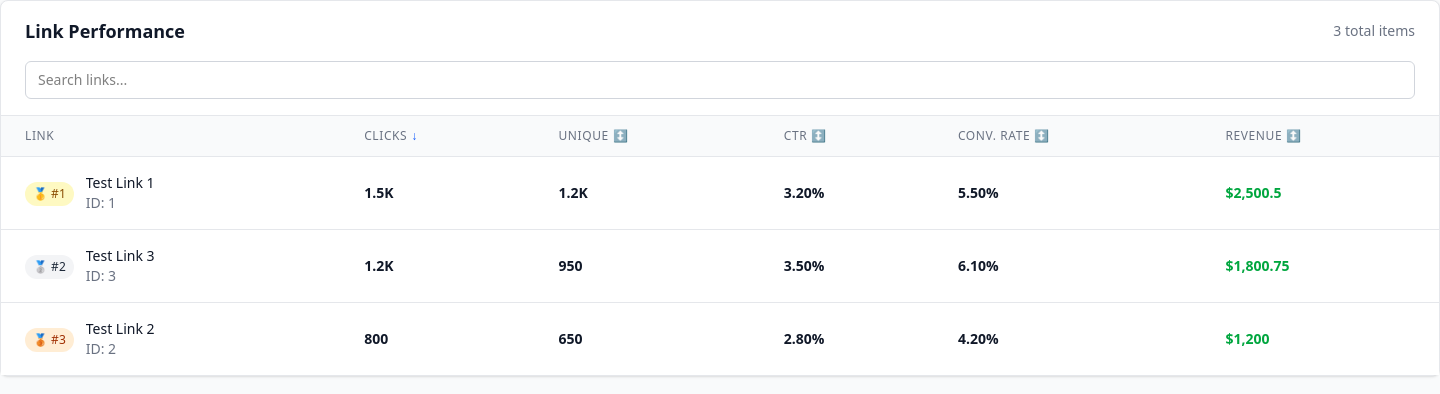
Test case: PerformanceTable › should show "no results" message when filter has no matches
The width and height of the screenshot is (1440, 394).
In the field with placeholder "Search links...": (720, 80) [25, 61, 1415, 99], type "Non-existent Link"
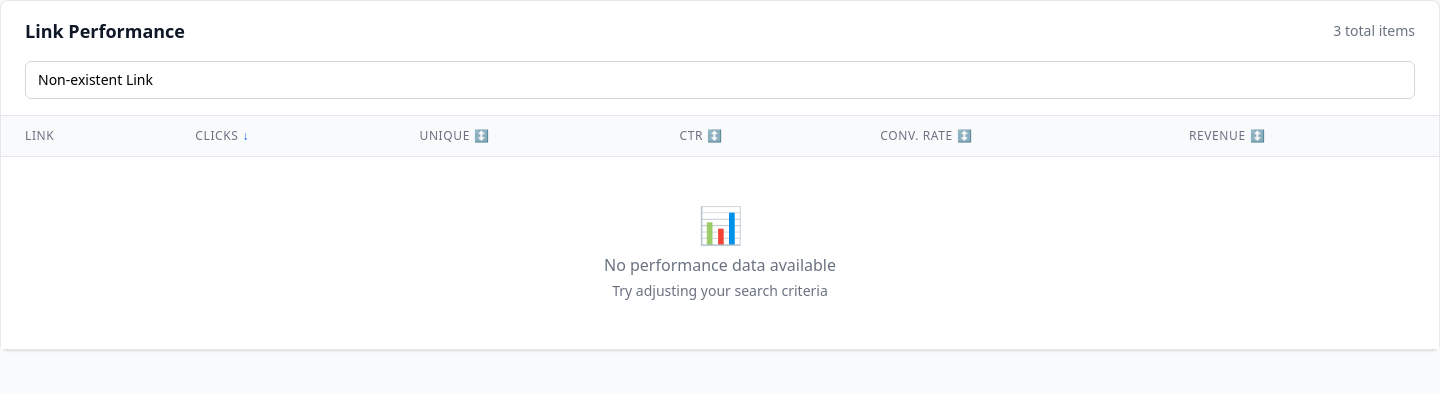
Check: the text "No performance data available" is shown, box [604, 254, 836, 276]
Check: the text "Try adjusting your search criteria" is shown, box [612, 281, 828, 300]
